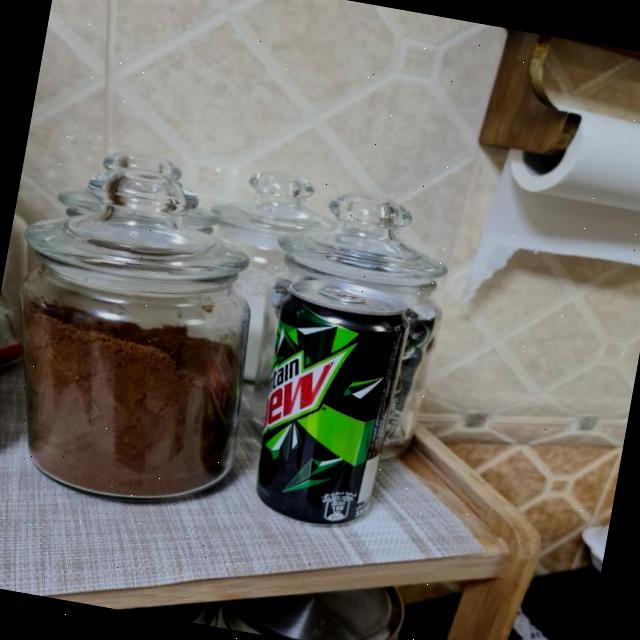trash: (245, 268, 417, 536)
